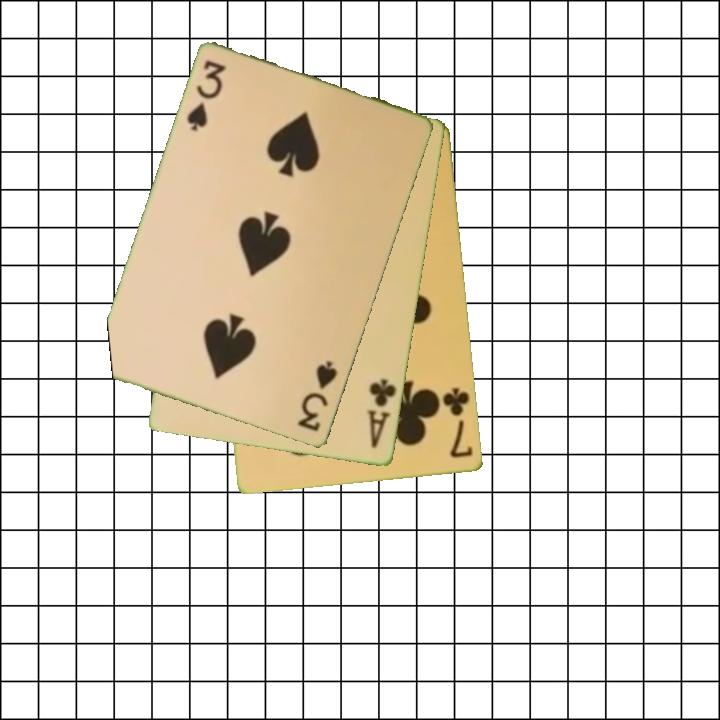3s: (294, 357, 341, 435), (183, 57, 229, 135)
7c: (439, 384, 476, 461)
Ac: (364, 376, 400, 451)
